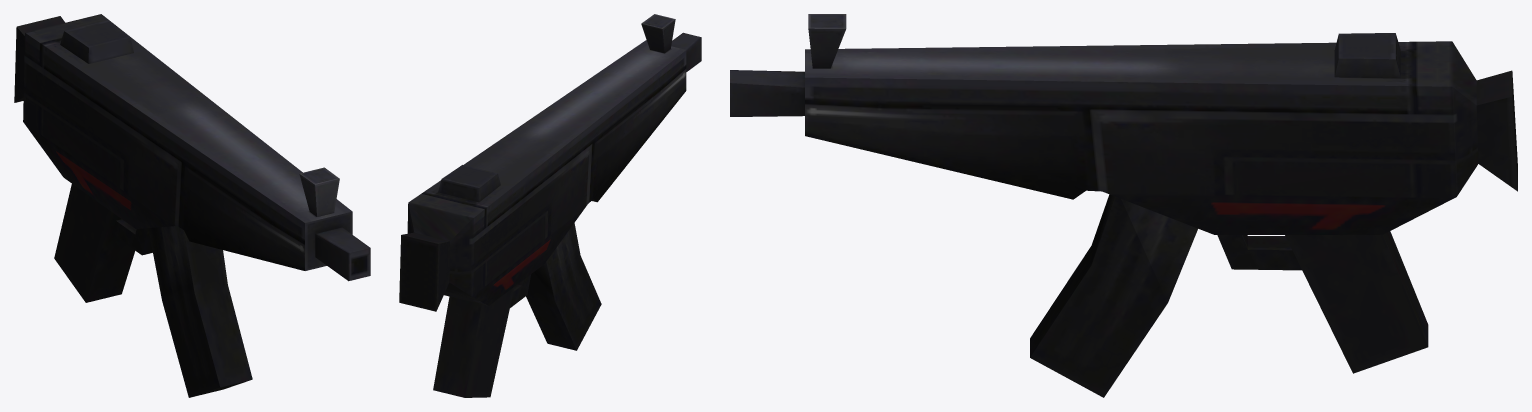
The picture shows the model from 3 angles, left to right: view 1: azimuth 30°, elevation 25°; view 2: azimuth 150°, elevation 25°; view 3: azimuth 270°, elevation 25°; orthographic projection. The views are drawn at different scales.
Parts seen in each view (by area): view 1: MP5_0, MP5_0.001; view 2: MP5_0, MP5_0.001; view 3: MP5_0, MP5_0.001.
Part boxes in pixels (left/top/right/bottom): MP5_0: left=14, top=14, right=370, bottom=302; MP5_0.001: left=148, top=226, right=252, bottom=397; MP5_0: left=399, top=14, right=701, bottom=397; MP5_0.001: left=526, top=223, right=601, bottom=350; MP5_0: left=730, top=14, right=1517, bottom=373; MP5_0.001: left=1030, top=194, right=1197, bottom=397.
Bounding box in the file's own units: 13.85 × 52.01 × 101.
